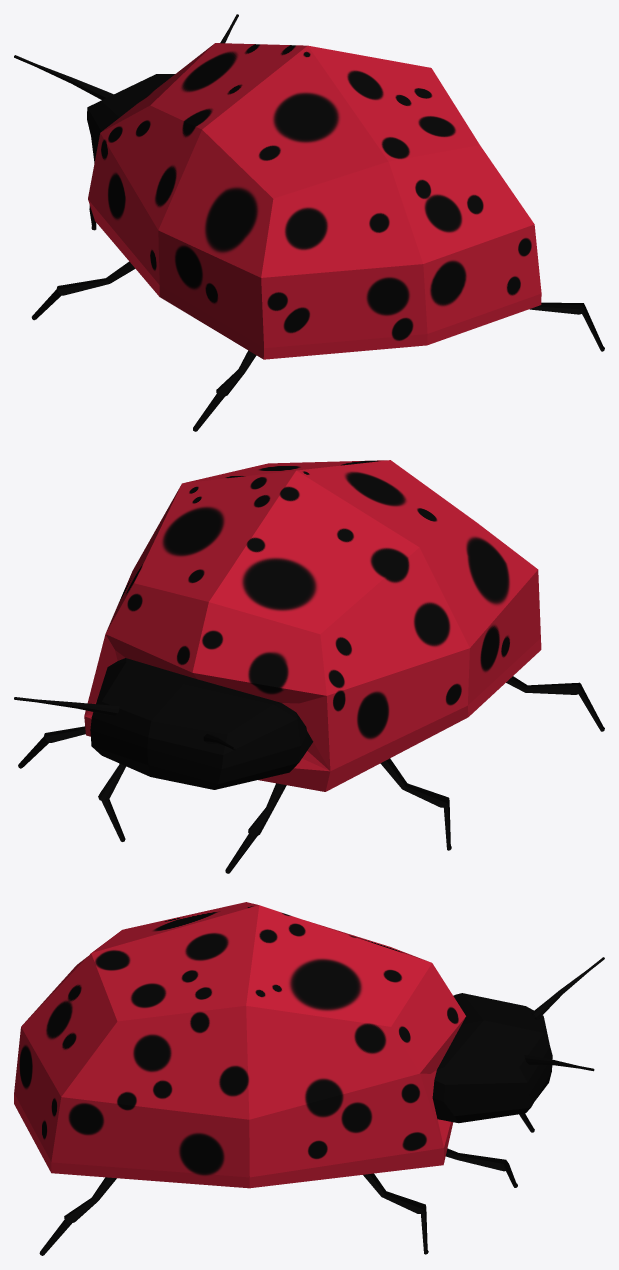
Rendered from ladybug.fbx.
The picture shows the model from 3 angles, top to bottom: view 1: azimuth 30°, elevation 25°; view 2: azimuth 150°, elevation 25°; view 3: azimuth 270°, elevation 25°; orthographic projection. The views are drawn at different scales.
Visible parts, largest first — view 1: Cube, Cube.004, Cube.003, Cube.005, Cube.007, Cube.001; view 2: Cube, Cube.004, Cube.003, Cube.005, Cube.008, Cube.009, Cube.006, Cube.002; view 3: Cube, Cube.004, Cube.007, Cube.006, Cube.009, Cube.001.
Boxes of the visible parts, <box> form: Cube: <box>88,43,541,359</box>; Cube.004: <box>87,74,174,163</box>; Cube.003: <box>31,261,135,320</box>; Cube.005: <box>193,350,256,431</box>; Cube.007: <box>529,302,604,351</box>; Cube.001: <box>14,55,113,99</box>; Cube: <box>84,460,541,791</box>; Cube.004: <box>90,658,313,789</box>; Cube.003: <box>380,758,451,850</box>; Cube.005: <box>506,676,604,731</box>; Cube.008: <box>225,783,286,873</box>; Cube.009: <box>98,763,125,841</box>; Cube.006: <box>18,726,85,768</box>; Cube.002: <box>14,697,119,715</box>; Cube: <box>14,902,465,1188</box>; Cube.004: <box>432,993,552,1123</box>; Cube.007: <box>39,1177,116,1255</box>; Cube.006: <box>363,1173,428,1254</box>; Cube.009: <box>446,1148,517,1187</box>; Cube.001: <box>531,957,604,1019</box>.
Bounding box in the file's own units: 186 × 121 × 244.
